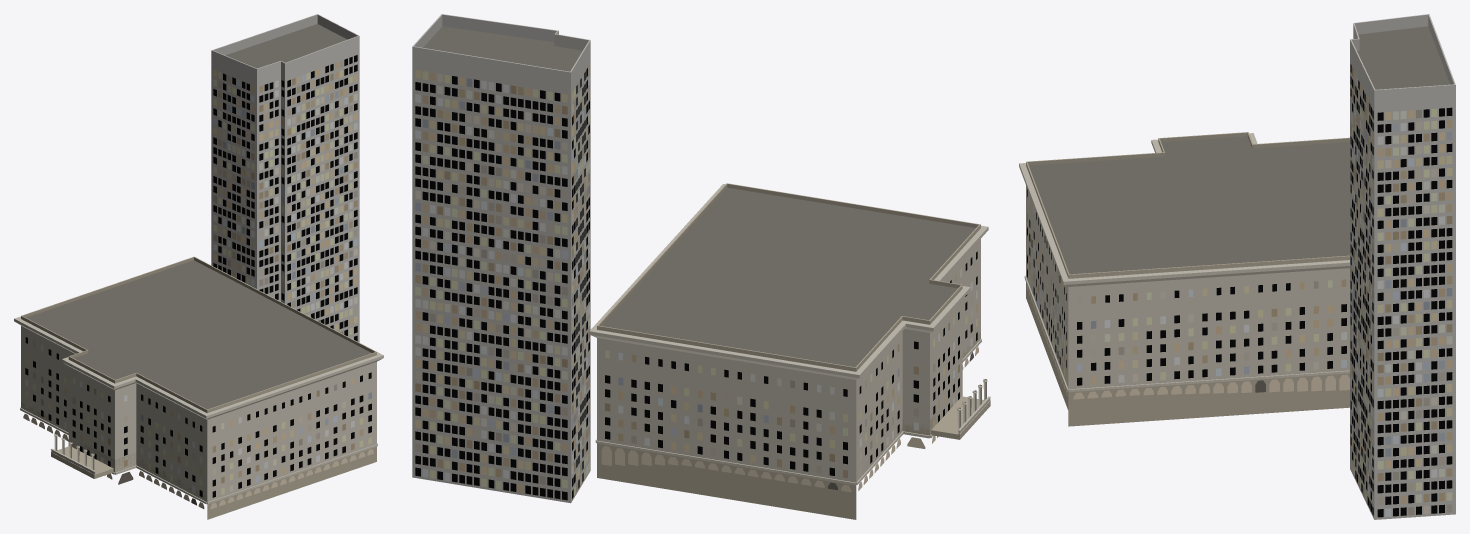
The model's file is fairmont_lod1.glb.
3 renders of one model, left to right at view 1: azimuth 30°, elevation 25°; view 2: azimuth 150°, elevation 25°; view 3: azimuth 270°, elevation 25°, orthographic. The views are drawn at different scales.
Parts seen in each view (by area): view 1: L1_stone, L1_roof, L1_win, L1_concrete, L1_shop; view 2: L1_stone, L1_win, L1_concrete, L1_roof, L1_shop; view 3: L1_stone, L1_roof, L1_win, L1_concrete, L1_shop.
Part boxes in pixels (left/top/right/bottom): L1_stone: left=14, top=256, right=383, bottom=519; L1_roof: left=26, top=24, right=371, bottom=409; L1_win: left=25, top=55, right=371, bottom=497; L1_concrete: left=211, top=14, right=359, bottom=342; L1_shop: left=23, top=413, right=373, bottom=509; L1_stone: left=589, top=183, right=990, bottom=519; L1_win: left=415, top=64, right=977, bottom=500; L1_concrete: left=412, top=14, right=590, bottom=503; L1_roof: left=423, top=26, right=975, bottom=367; L1_shop: left=601, top=346, right=978, bottom=492; L1_stone: left=1019, top=132, right=1349, bottom=426; L1_roof: left=1029, top=26, right=1449, bottom=274; L1_win: left=1027, top=64, right=1452, bottom=517; L1_concrete: left=1350, top=14, right=1455, bottom=519; L1_shop: left=1026, top=285, right=1349, bottom=399.
Size of the model in its own units: 122 by 111 by 102.
